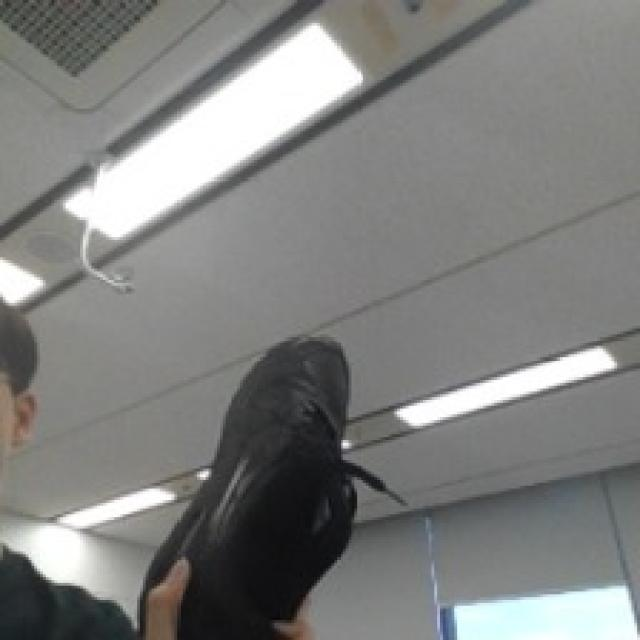shoe: (124, 242, 374, 638)
